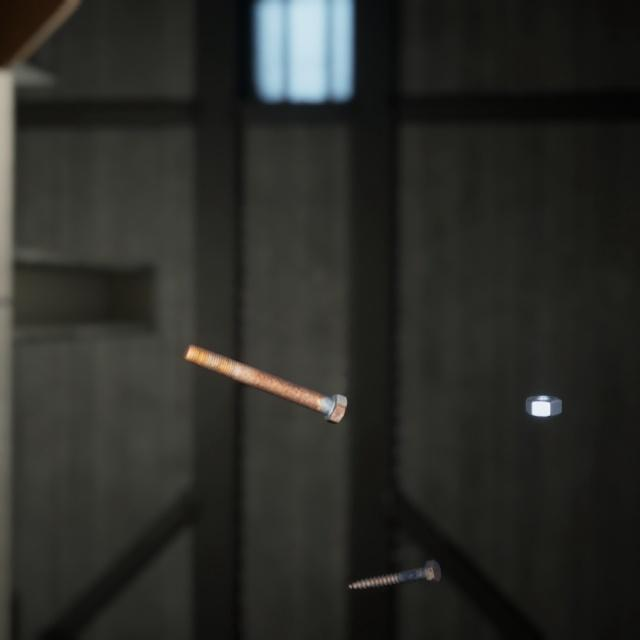bolt: (178, 320, 351, 408), (344, 533, 445, 571)
nut: (521, 371, 566, 401)
